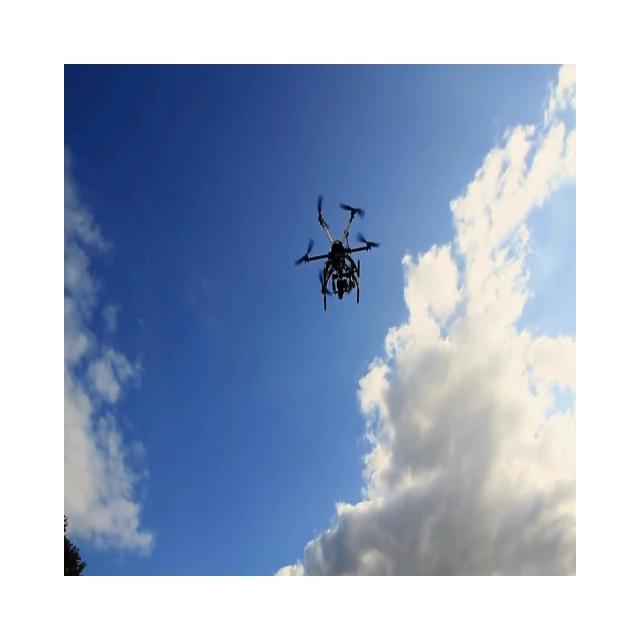drone: (294, 192, 380, 312)
